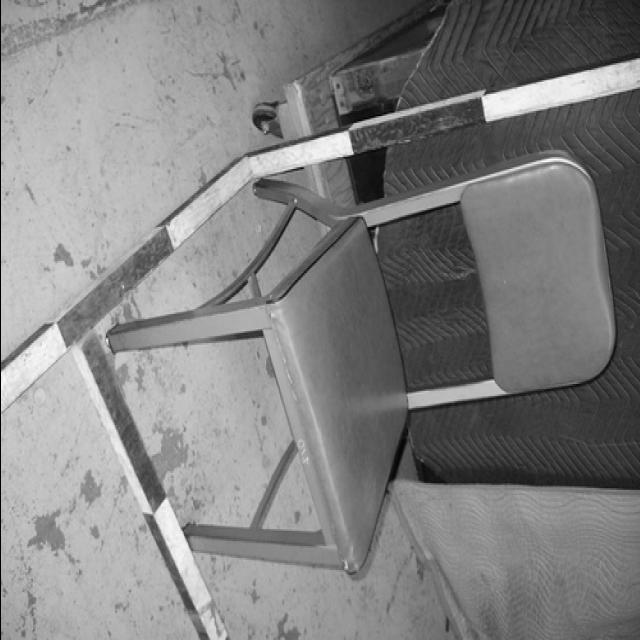chair: (106, 152, 618, 576)
